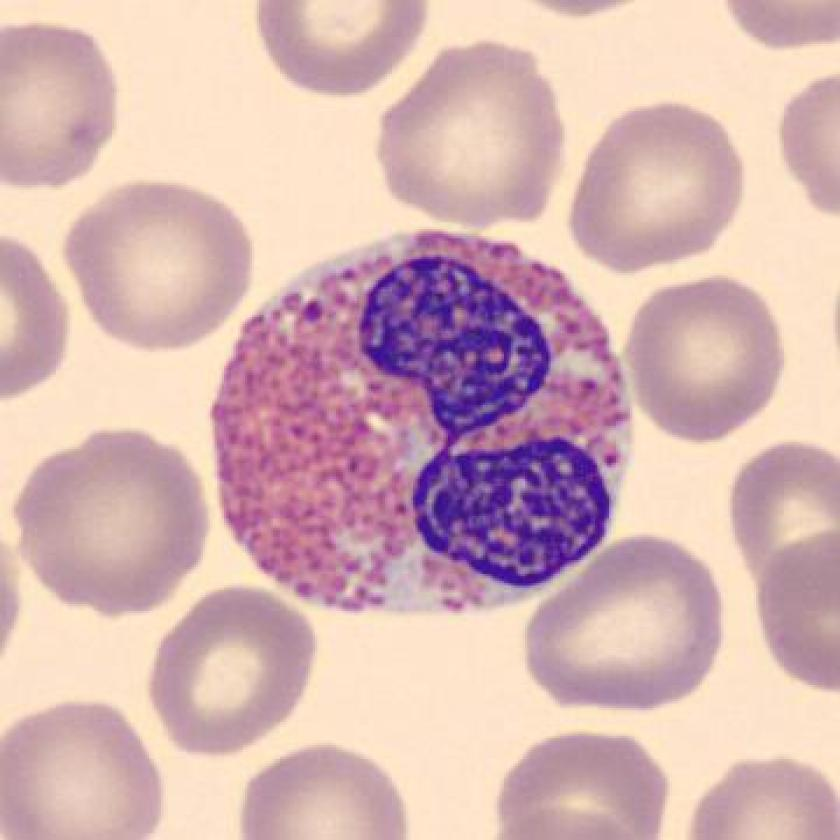eosinophil: (192, 219, 650, 631)
